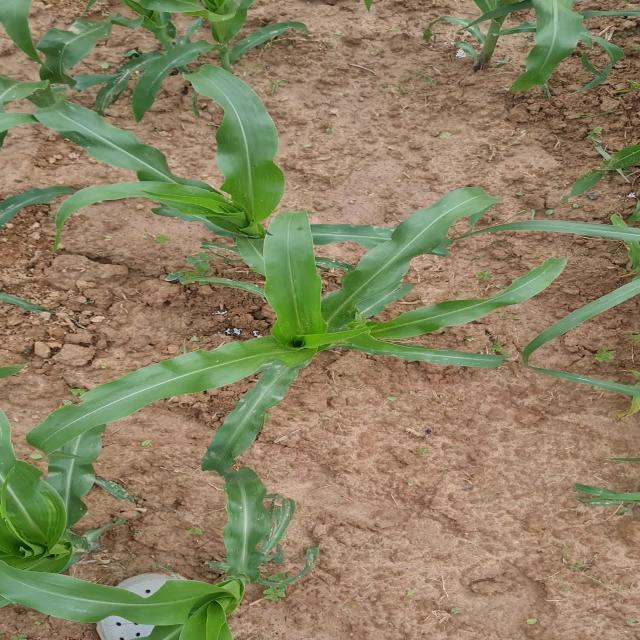maize: (80, 227, 533, 425), (19, 92, 381, 233), (93, 477, 324, 636), (14, 0, 368, 84), (416, 0, 640, 91), (0, 396, 90, 601), (573, 136, 640, 408), (533, 463, 640, 536)
weed: (168, 246, 214, 291)
